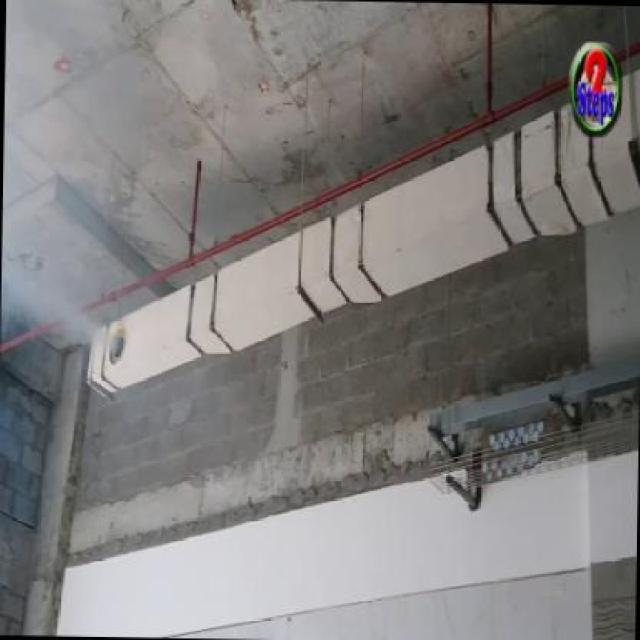fire: (3, 258, 116, 354)
